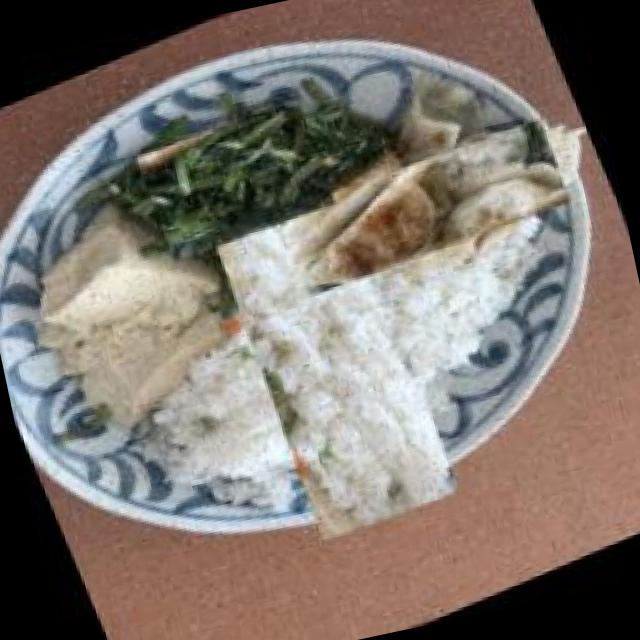fried_dumplings: (261, 98, 587, 316)
rice: (165, 193, 509, 537)
water_spinach: (126, 84, 350, 276)
